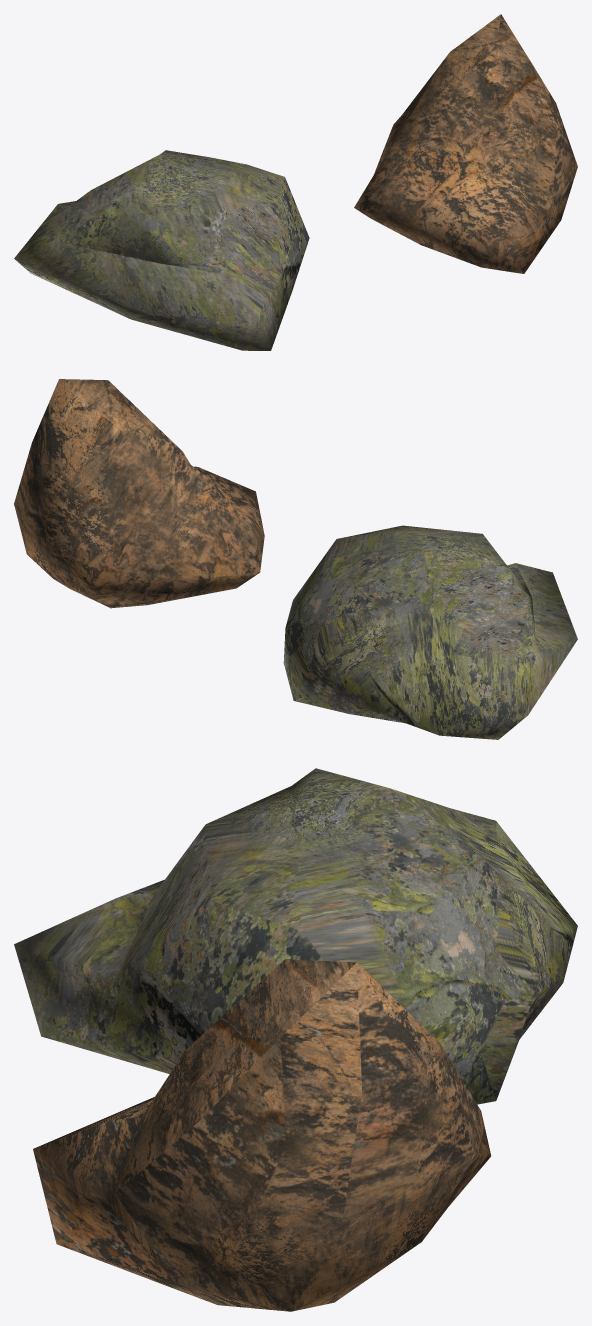
The model's file is rochers.fbx.
3 renders of one model, top to bottom at view 1: azimuth 30°, elevation 25°; view 2: azimuth 150°, elevation 25°; view 3: azimuth 270°, elevation 25°, orthographic. The views are drawn at different scales.
Visible parts, largest first — view 1: rocmousse, roc; view 2: rocmousse, roc; view 3: roc, rocmousse.
Boxes of the visible parts, left/top/right/bottom form: rocmousse: left=14, top=150, right=309, bottom=350; roc: left=354, top=14, right=577, bottom=273; rocmousse: left=283, top=525, right=577, bottom=739; roc: left=14, top=379, right=264, bottom=608; roc: left=33, top=959, right=490, bottom=1311; rocmousse: left=14, top=768, right=577, bottom=1104.
Size of the model in its own units: 1317 by 551 by 717.
2 materials, 2 textured.
